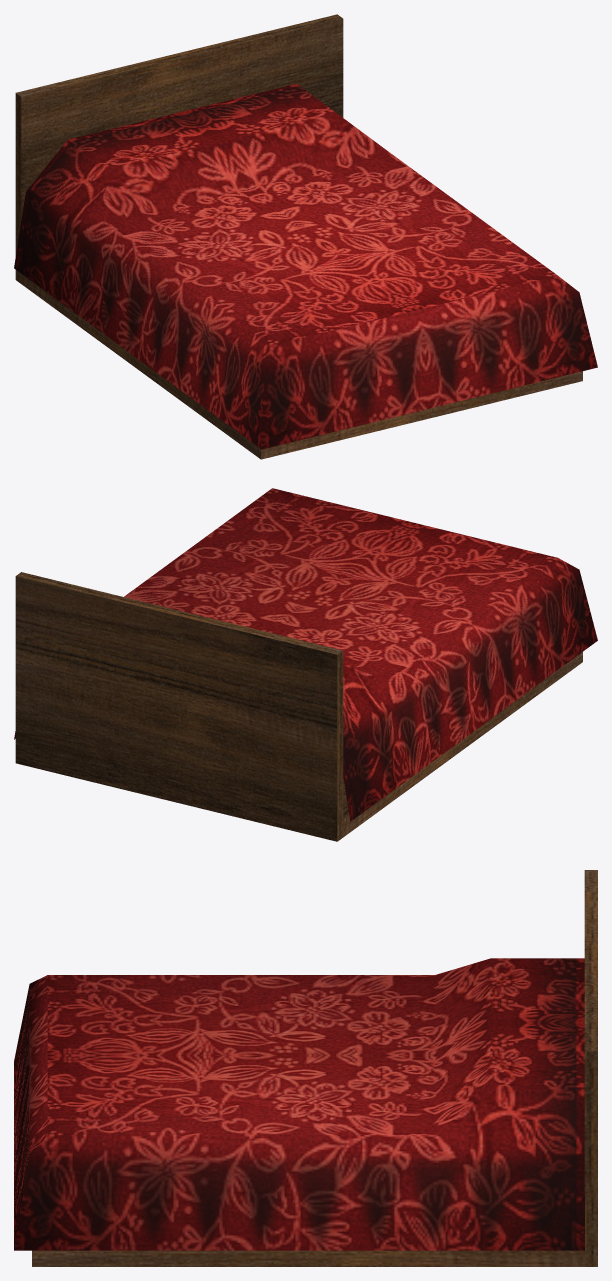
File: Bed.fbx
3 views of the same model, one above another, from view 1: azimuth 30°, elevation 25°; view 2: azimuth 150°, elevation 25°; view 3: azimuth 270°, elevation 25° (orthographic). The views are drawn at different scales.
Visible parts, largest first — view 1: Bed; view 2: Bed; view 3: Bed.
Part boxes in pixels (box(x1,y1,x2,y2)): Bed: box(14, 14, 597, 459); Bed: box(14, 488, 597, 841); Bed: box(14, 870, 597, 1266).
Size of the model in its own units: 186 by 99 by 243.
Materials: 1 (1 with a texture image).
